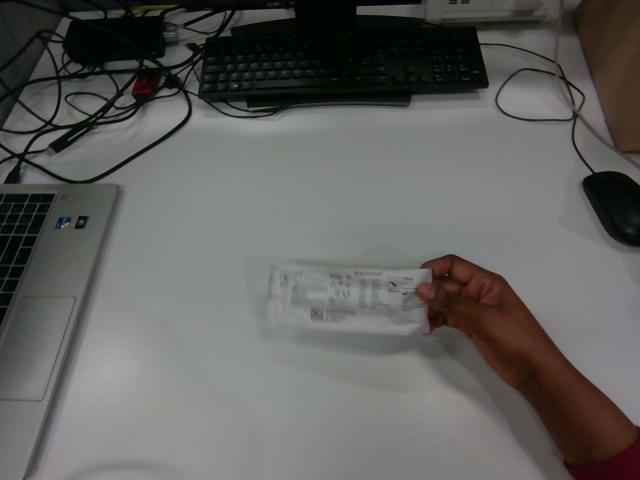syringe: (268, 264, 431, 334)
